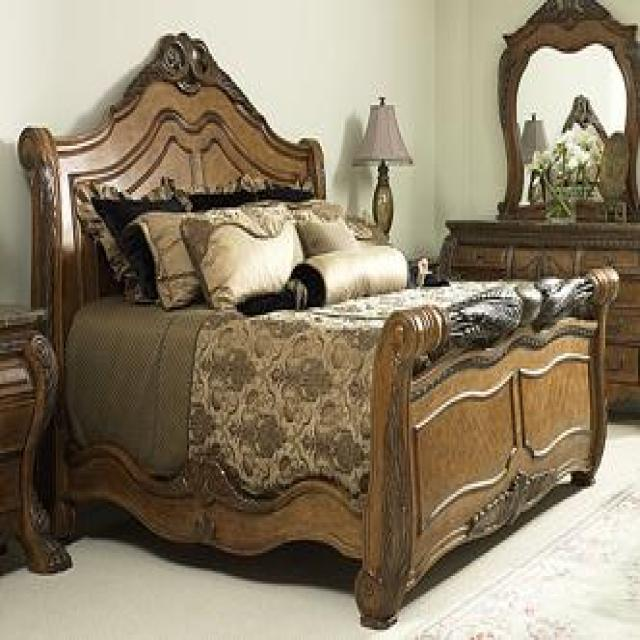bed: (18, 27, 616, 630)
